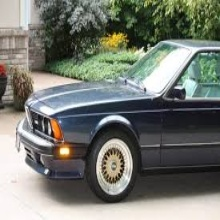no damage: (15, 39, 220, 202)
